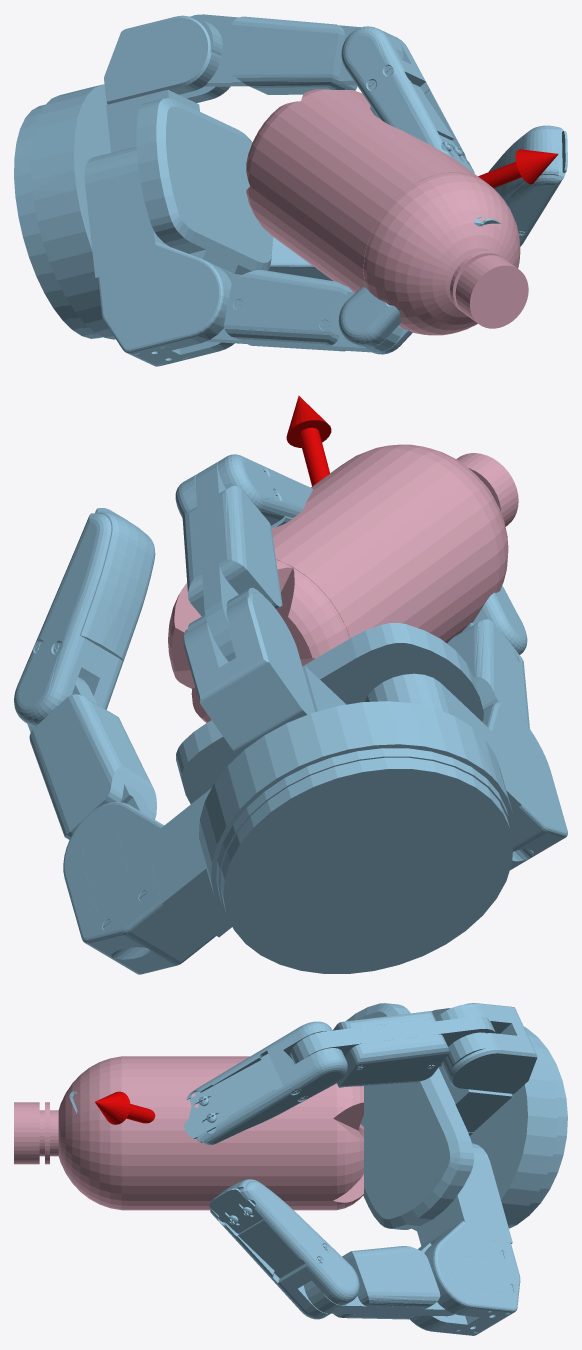
3 views of the same model, one above another, from view 1: azimuth 30°, elevation 25°; view 2: azimuth 150°, elevation 25°; view 3: azimuth 270°, elevation 25° (orthographic). The views are drawn at different scales.
Visible parts, largest first — view 1: world, water_bottle.stl; view 2: world, water_bottle.stl; view 3: world, water_bottle.stl.
Boxes of the visible parts, left/top/right/bottom form: world: left=14, top=14, right=567, bottom=366; water_bottle.stl: left=246, top=89, right=528, bottom=335; world: left=14, top=395, right=567, bottom=974; water_bottle.stl: left=168, top=444, right=518, bottom=722; world: left=69, top=1003, right=567, bottom=1335; water_bottle.stl: left=14, top=1056, right=363, bottom=1210.
Bounding box in the file's own units: 0.1836 × 0.1368 × 0.2161.
